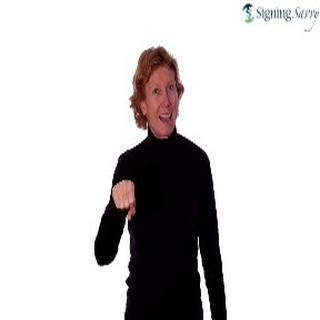yes: (106, 177, 143, 224)
